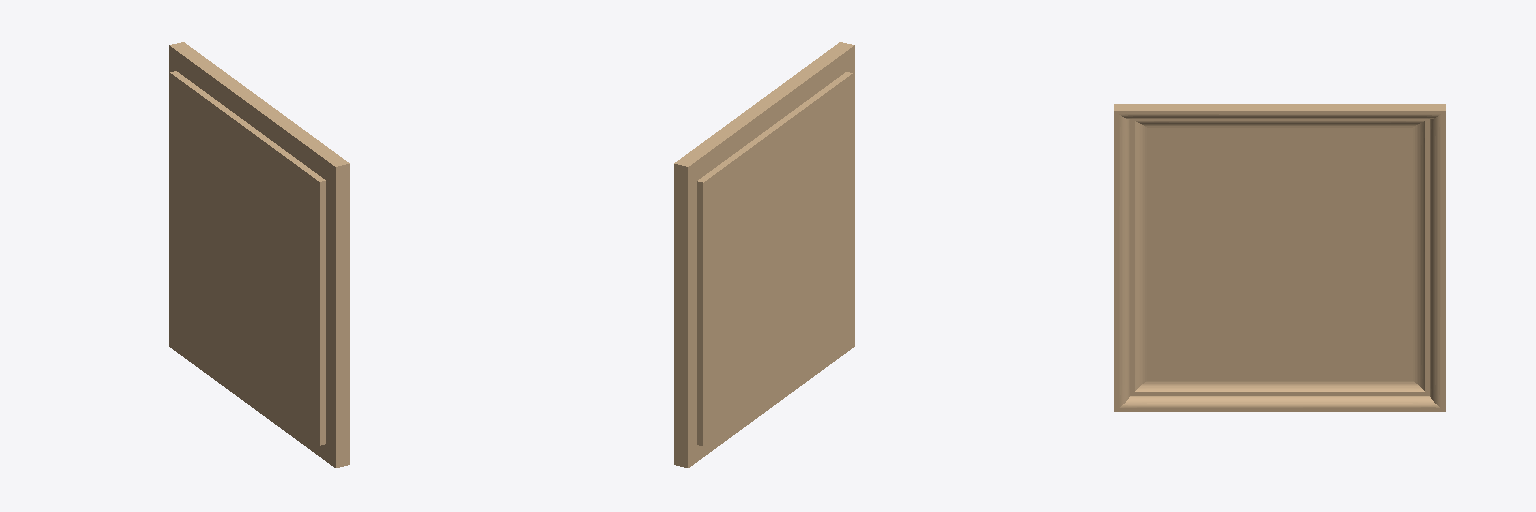
File: pictures.obj
The picture shows the model from 3 angles: view 1: azimuth 30°, elevation 25°; view 2: azimuth 150°, elevation 25°; view 3: azimuth 270°, elevation 25°; orthographic projection.
Parts seen in each view (by area): view 1: back panel.001; view 2: back panel.001; view 3: back panel.001.
Part boxes in pixels (bbox=[...]): back panel.001: bbox=[169, 42, 349, 467]; back panel.001: bbox=[674, 42, 854, 467]; back panel.001: bbox=[1114, 104, 1445, 411].
Size of the model in its own units: 15 by 200 by 200.